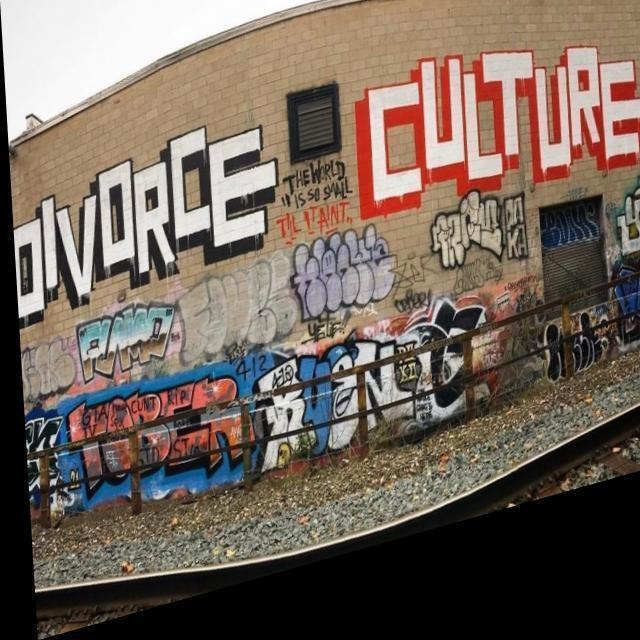nonspitting: (12, 125, 278, 328), (357, 45, 640, 220), (256, 301, 487, 462), (66, 376, 256, 492), (294, 224, 399, 322), (76, 302, 178, 384), (429, 188, 530, 267), (25, 416, 73, 507), (542, 312, 602, 381), (277, 202, 353, 244), (283, 161, 352, 206), (538, 204, 599, 252), (609, 259, 640, 345), (388, 251, 435, 300), (456, 253, 504, 296), (615, 182, 640, 257), (304, 312, 352, 345), (394, 287, 432, 314)
